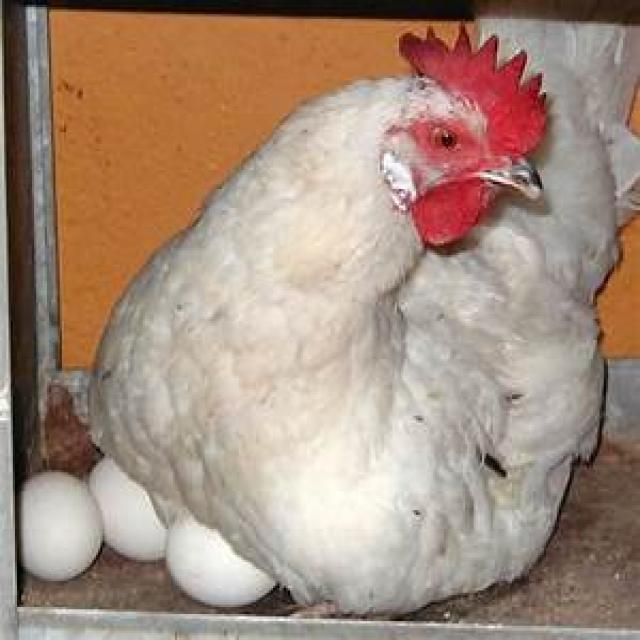hen: (85, 24, 640, 619)
